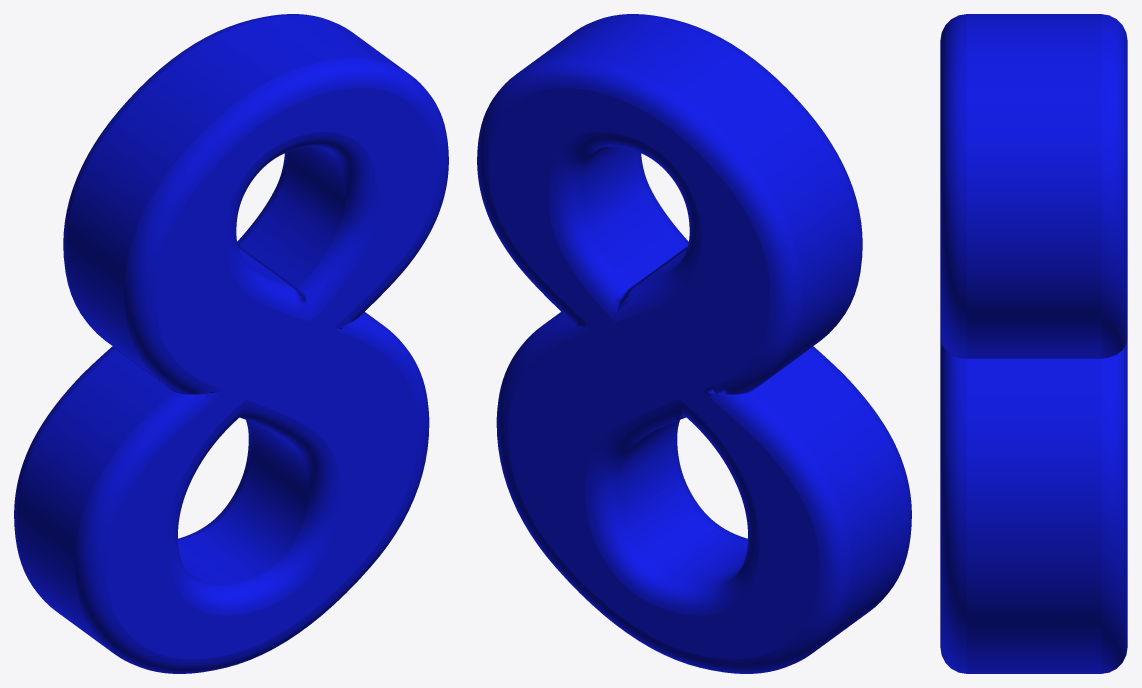
File: number_8.fbx
The picture shows the model from 3 angles, left to right: view 1: azimuth 30°, elevation 25°; view 2: azimuth 150°, elevation 25°; view 3: azimuth 270°, elevation 25°; orthographic projection. The views are drawn at different scales.
Parts seen in each view (by area): view 1: Text; view 2: Text; view 3: Text.
Boxes of the visible parts, x1=… form: Text: x1=14, y1=14, x2=448, y2=673; Text: x1=477, y1=14, x2=911, y2=673; Text: x1=940, y1=14, x2=1127, y2=673.
Bounding box in the file's own units: 184 × 274 × 69.41.
